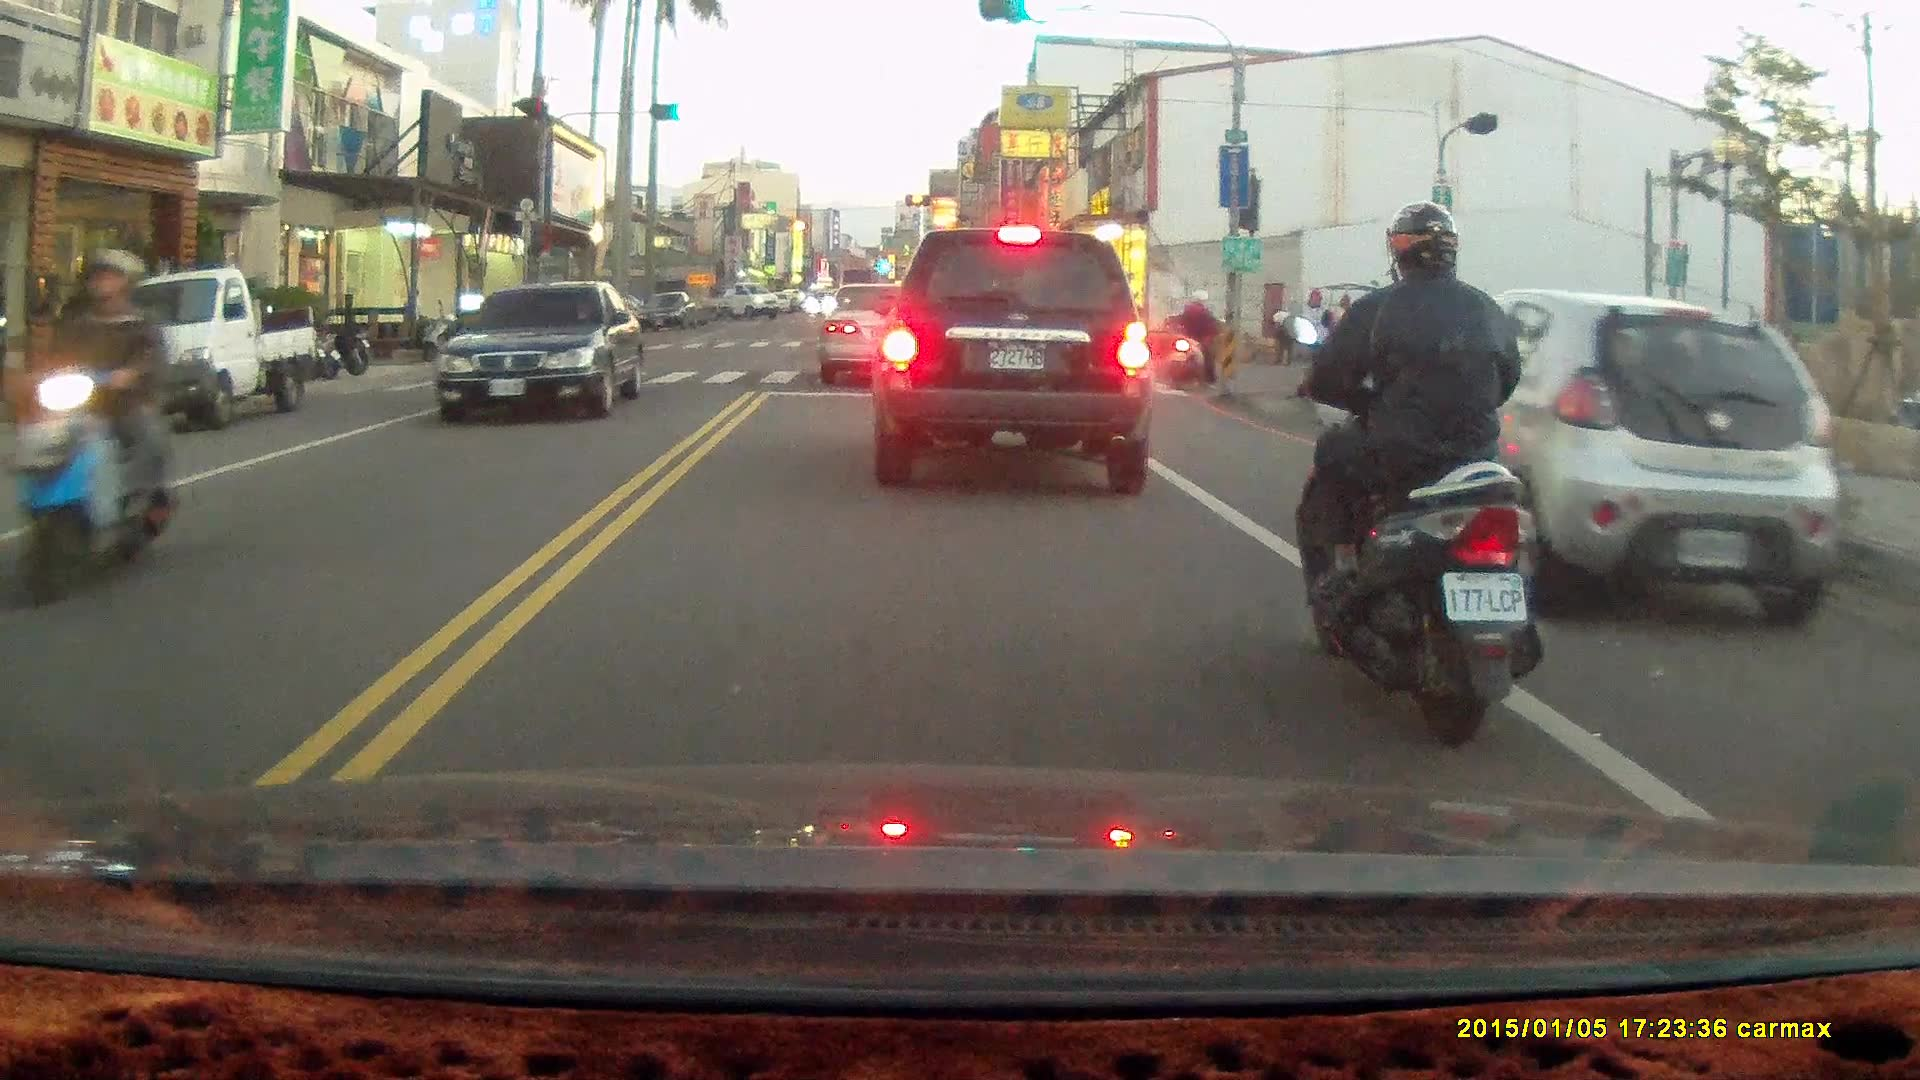pedestrian: (1265, 304, 1294, 369)
rider: (1276, 199, 1546, 748), (12, 244, 175, 609), (1164, 287, 1224, 390)
vehicle: (1390, 292, 1853, 628), (868, 224, 1156, 496), (94, 268, 321, 428), (440, 278, 647, 420), (818, 281, 937, 388)
